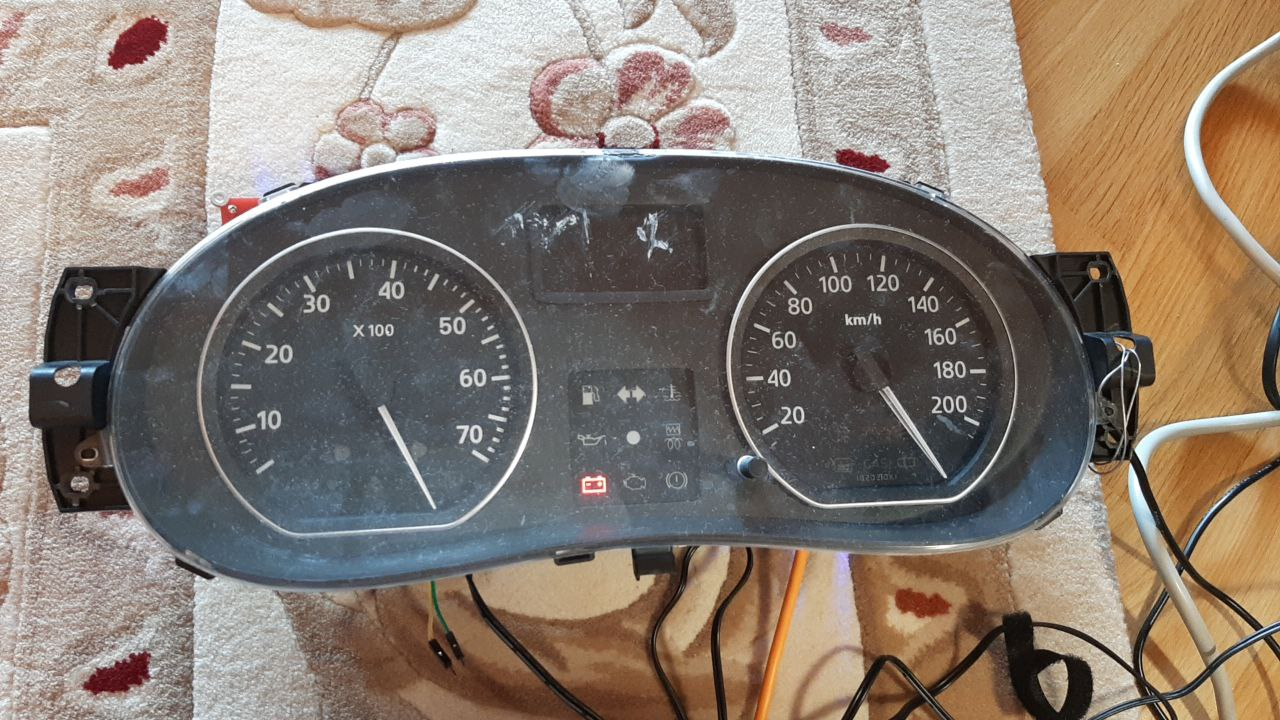accumulator: (574, 471, 611, 495)
